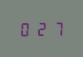seven: (49, 19, 63, 36)
two: (34, 20, 48, 36)
zero: (18, 20, 32, 37)
